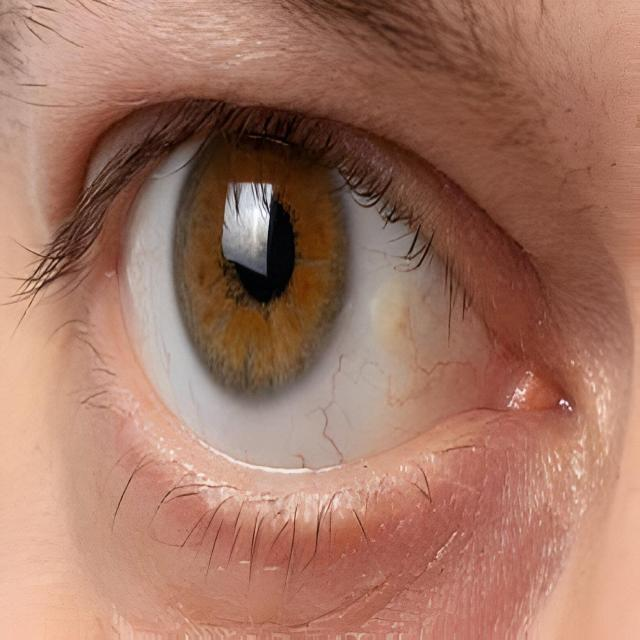Pterygium: (325, 241, 519, 454)
